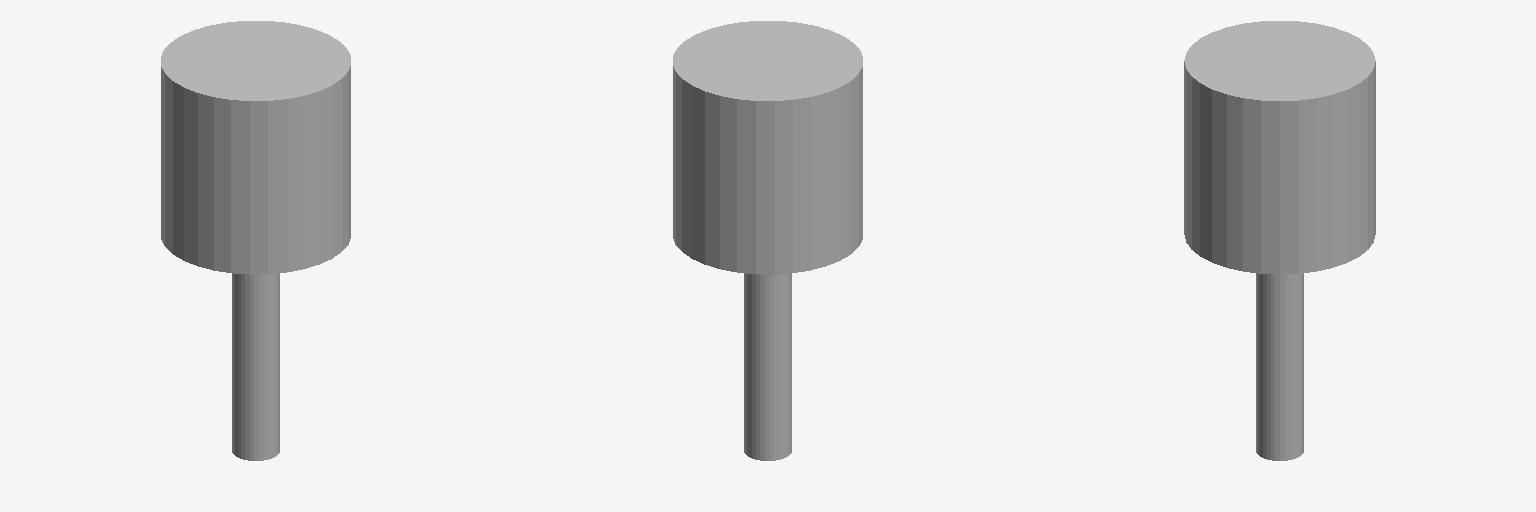
File: tree.obj
3 renders of one model, left to right at view 1: azimuth 30°, elevation 25°; view 2: azimuth 150°, elevation 25°; view 3: azimuth 270°, elevation 25°, orthographic.
Parts seen in each view (by area): view 1: Cylinder, Cylinder.001_Cylinder.002; view 2: Cylinder, Cylinder.001_Cylinder.002; view 3: Cylinder, Cylinder.001_Cylinder.002.
Boxes of the visible parts, x1,y1,x2,y2 form: Cylinder: [161, 21, 350, 274]; Cylinder.001_Cylinder.002: [232, 273, 279, 460]; Cylinder: [673, 21, 862, 274]; Cylinder.001_Cylinder.002: [744, 273, 791, 460]; Cylinder: [1184, 21, 1375, 274]; Cylinder.001_Cylinder.002: [1256, 273, 1303, 460].
Size of the model in its own units: 0.8 by 1.8 by 0.8.